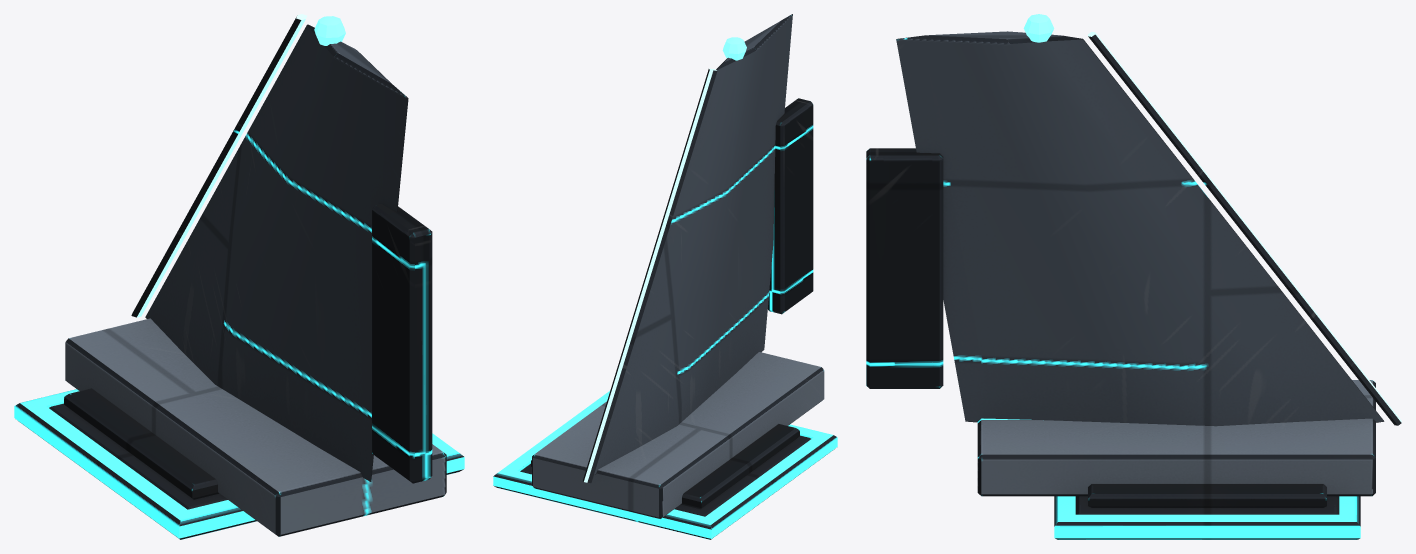
File: estabilizador_vertical_t3.fbx
The picture shows the model from 3 angles, left to right: view 1: azimuth 30°, elevation 25°; view 2: azimuth 150°, elevation 25°; view 3: azimuth 270°, elevation 25°; orthographic projection. The views are drawn at different scales.
Visible parts, largest first — view 1: estabilizador_vertical_t3, estabilizador_vertical_t3_neon, estabilizador_vertical_t3_neon2; view 2: estabilizador_vertical_t3, estabilizador_vertical_t3_neon, estabilizador_vertical_t3_neon2; view 3: estabilizador_vertical_t3, estabilizador_vertical_t3_neon, estabilizador_vertical_t3_neon2.
Boxes of the visible parts, x1,y1,x2,y2 form: estabilizador_vertical_t3: [14, 17, 464, 539]; estabilizador_vertical_t3_neon: [137, 14, 306, 317]; estabilizador_vertical_t3_neon2: [314, 16, 345, 45]; estabilizador_vertical_t3: [493, 14, 837, 539]; estabilizador_vertical_t3_neon: [584, 68, 716, 482]; estabilizador_vertical_t3_neon2: [722, 37, 746, 60]; estabilizador_vertical_t3: [866, 31, 1401, 539]; estabilizador_vertical_t3_neon: [1088, 32, 1401, 422]; estabilizador_vertical_t3_neon2: [1023, 14, 1054, 42].
Size of the model in its own units: 2 by 3.39 by 3.5.
